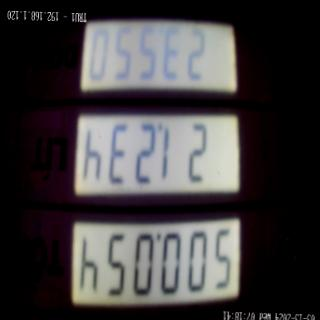screen: (66, 7, 256, 320)
